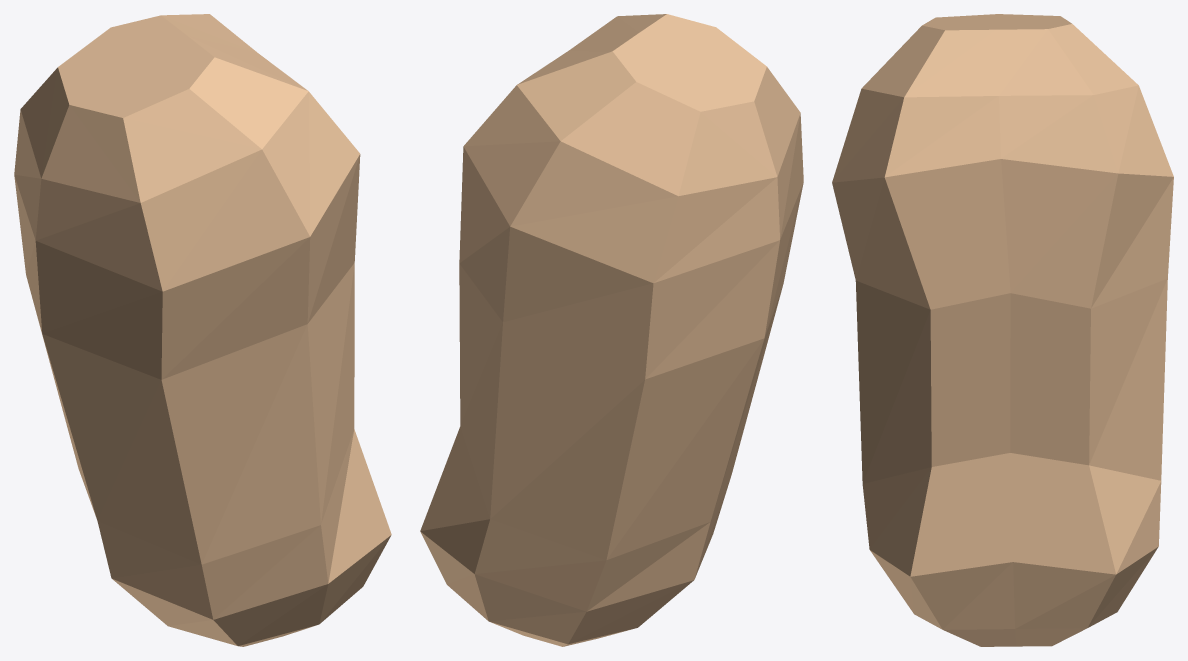
File: LFing41_mesh.dae
3 renders of one model, left to right at view 1: azimuth 30°, elevation 25°; view 2: azimuth 150°, elevation 25°; view 3: azimuth 270°, elevation 25°, orthographic. The views are drawn at different scales.
Parts seen in each view (by area): view 1: LFing41; view 2: LFing41; view 3: LFing41.
Part boxes in pixels (x1,y1,x2,y2): LFing41: (14,14,391,646); LFing41: (420,14,803,646); LFing41: (832,14,1173,646).
Size of the model in its own units: 0.0174 by 0.0334 by 0.0178.
